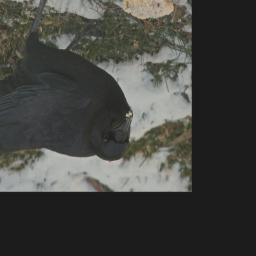Crow: (0, 0, 134, 162)
